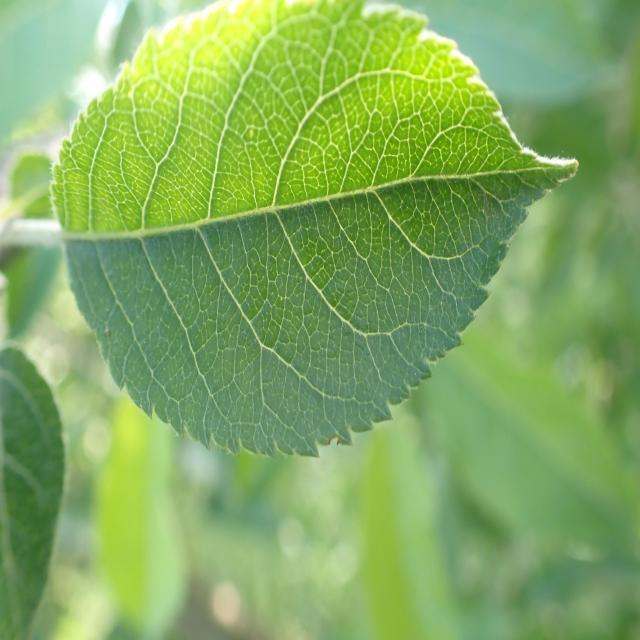healthy: (51, 2, 580, 460), (0, 346, 66, 639)
